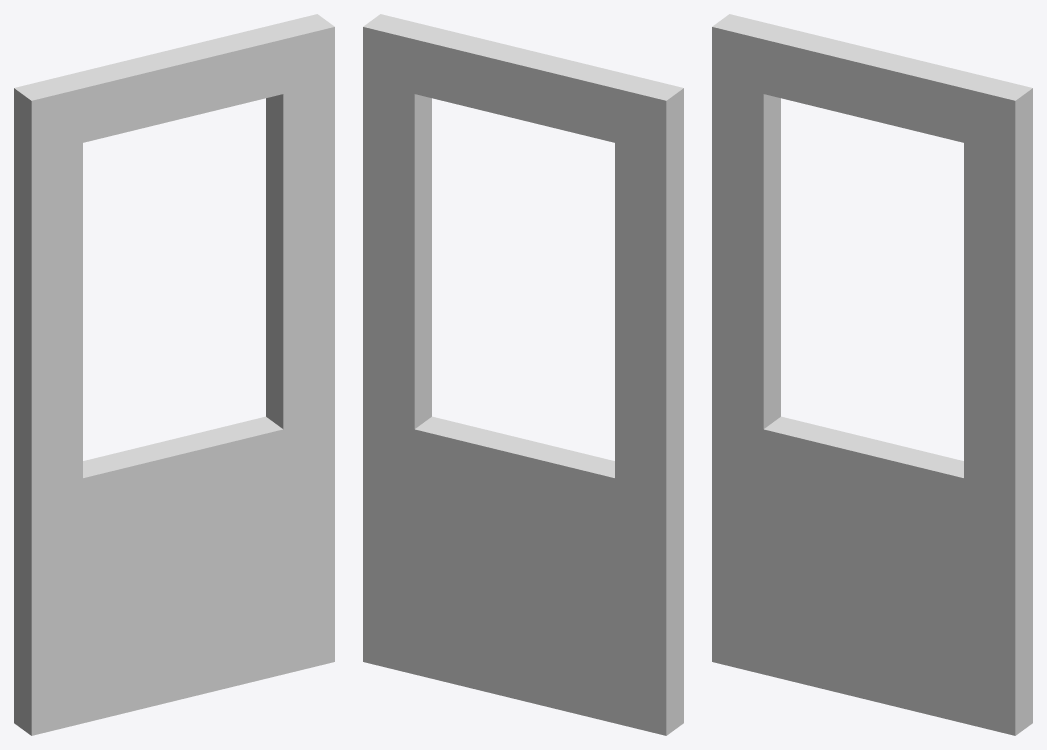
File: PlainSmallWindowframe.fbx
3 renders of one model, left to right at view 1: azimuth 30°, elevation 25°; view 2: azimuth 150°, elevation 25°; view 3: azimuth 330°, elevation 25°, orthographic.
Parts seen in each view (by area): view 1: PlainSmallWindowframe; view 2: PlainSmallWindowframe; view 3: PlainSmallWindowframe.
Boxes of the visible parts, x1,y1,x2,y2 form: PlainSmallWindowframe: (14, 14, 334, 735); PlainSmallWindowframe: (363, 14, 683, 735); PlainSmallWindowframe: (712, 14, 1032, 735).
Bounding box in the file's own units: 100 × 200 × 10.
